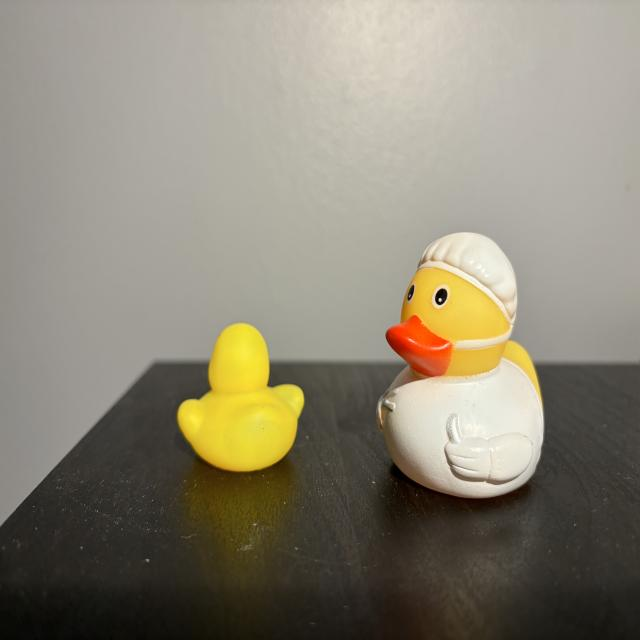duck_regular: (179, 325, 305, 473)
duck_specialty: (378, 233, 546, 500)
